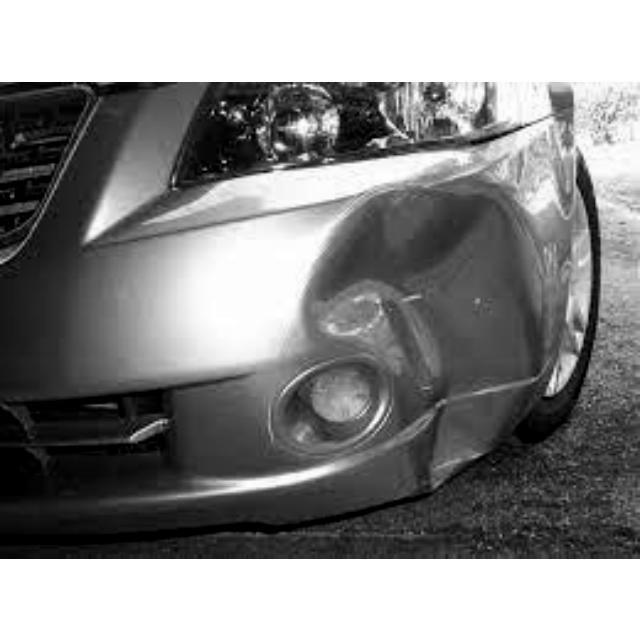front-bumper-dent: (38, 162, 589, 472)
